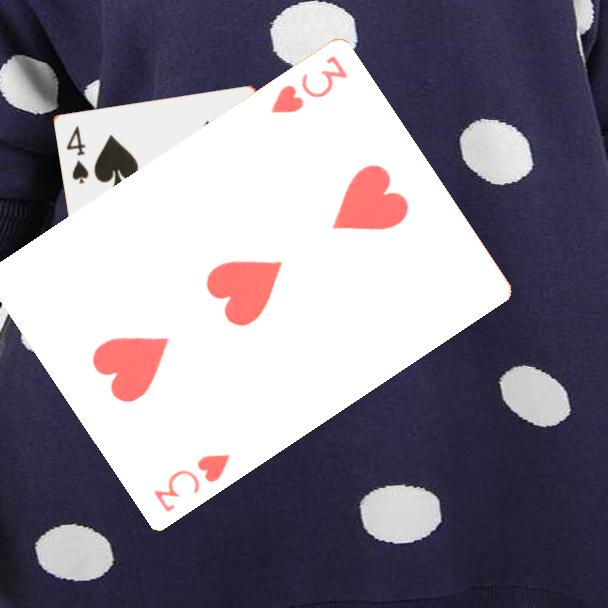h03: (267, 52, 351, 117), (150, 451, 233, 516)
s04: (63, 123, 92, 187)
